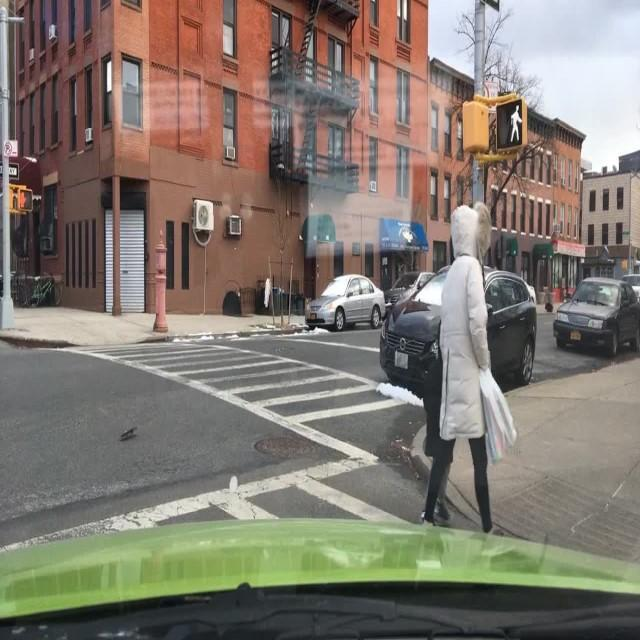normal: (296, 196, 640, 446)
